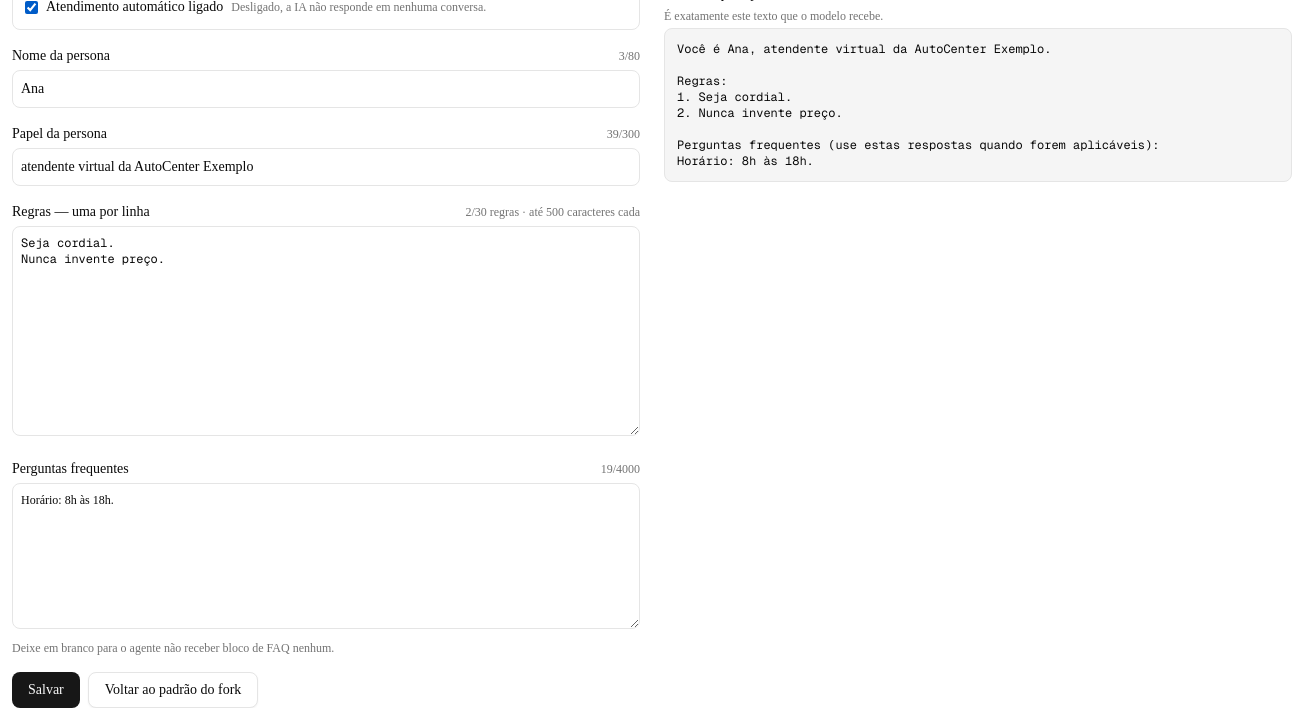
AgenteForm — salvar › erro devolvido pela action aparece na tela
Click the button "Salvar" at (46, 690), box [12,672,80,707]
(page scrolled)
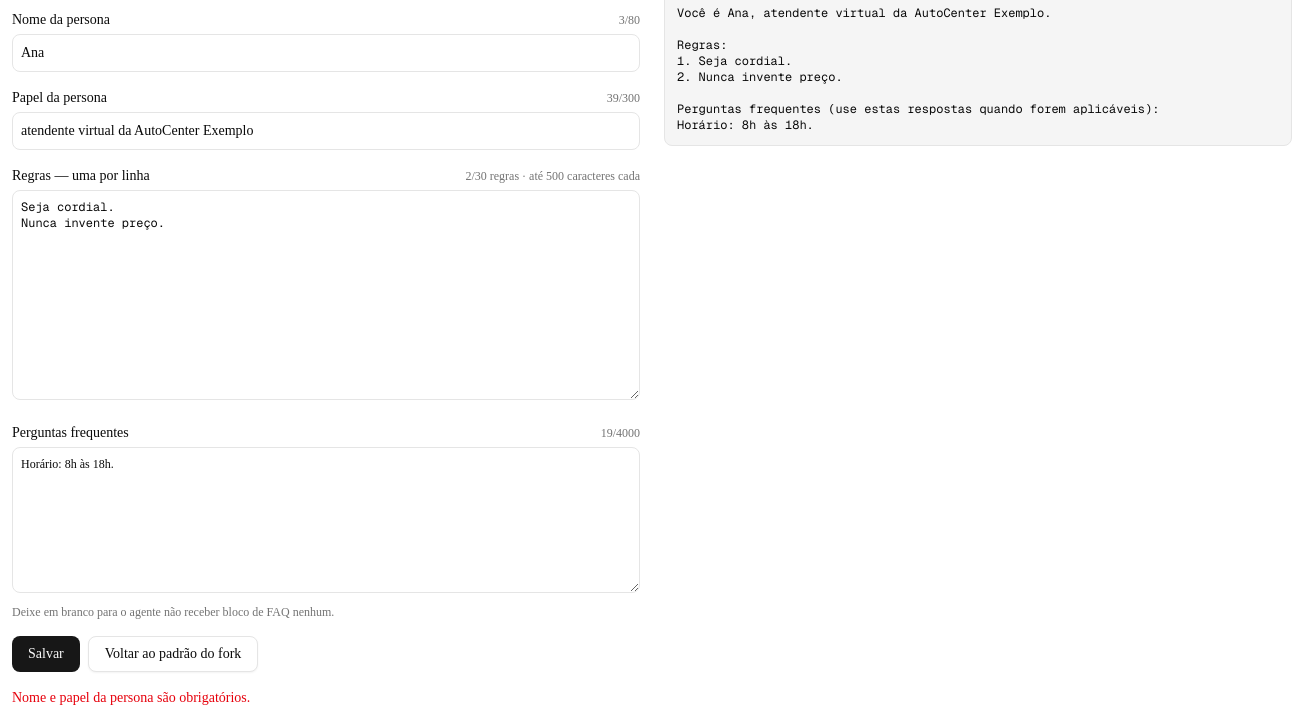
Expected: the text "Nome e papel da persona são obrigatórios." is shown, [12,690,250,705]
